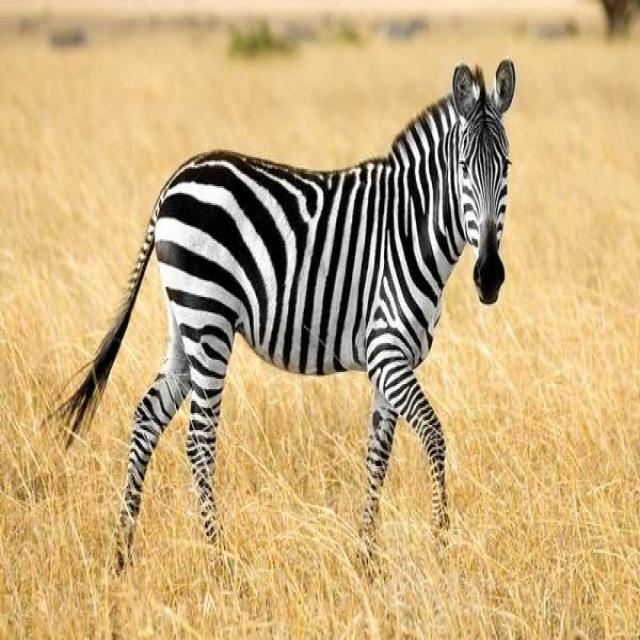Herbivorous: (58, 60, 518, 567)
